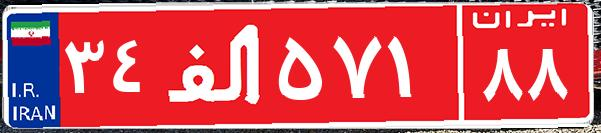1: (385, 28, 445, 110)
3: (57, 26, 110, 107)
4: (110, 28, 158, 105)
5: (273, 28, 330, 110)
7: (330, 28, 385, 110)
8: (475, 38, 525, 113), (525, 38, 570, 115)
الف: (158, 15, 273, 115)
